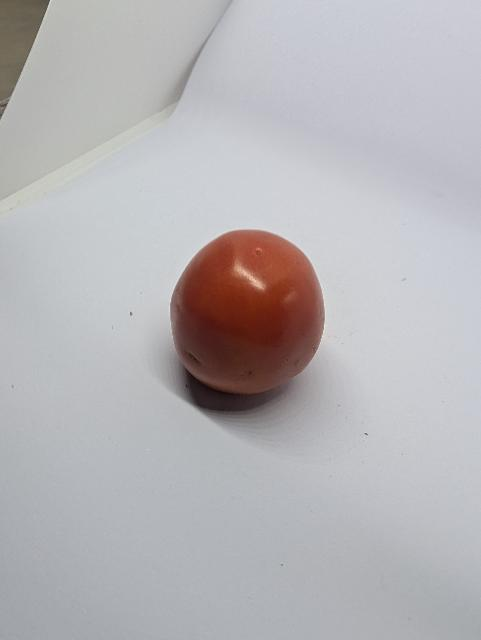red: (162, 226, 334, 396)
